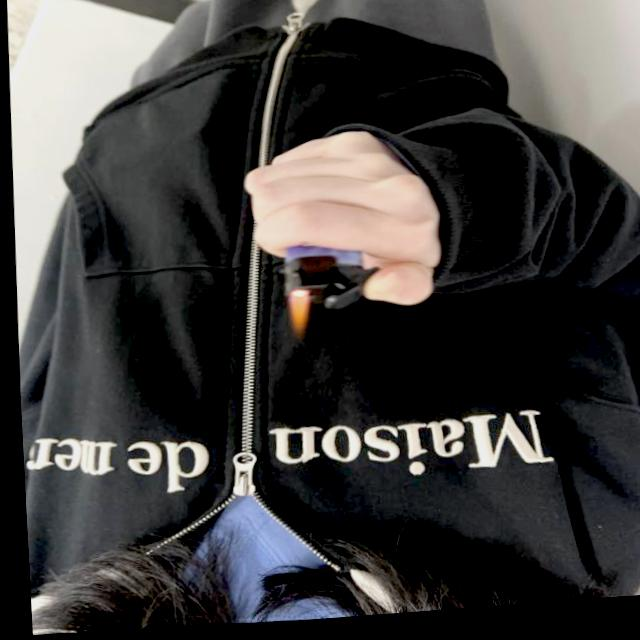Fire: (282, 293, 308, 340)
